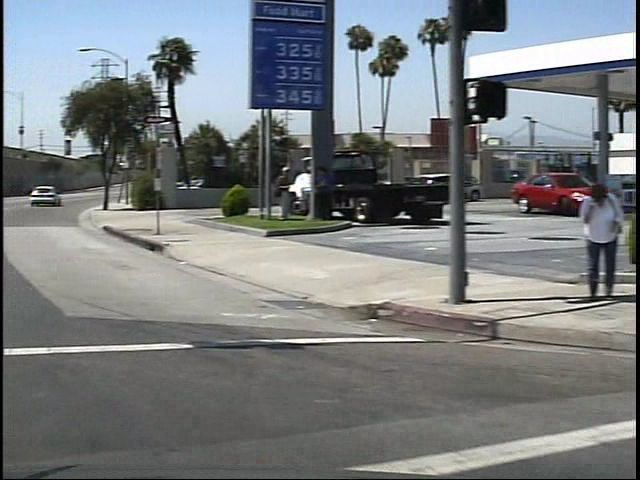person: (562, 176, 608, 302), (265, 166, 289, 228)
